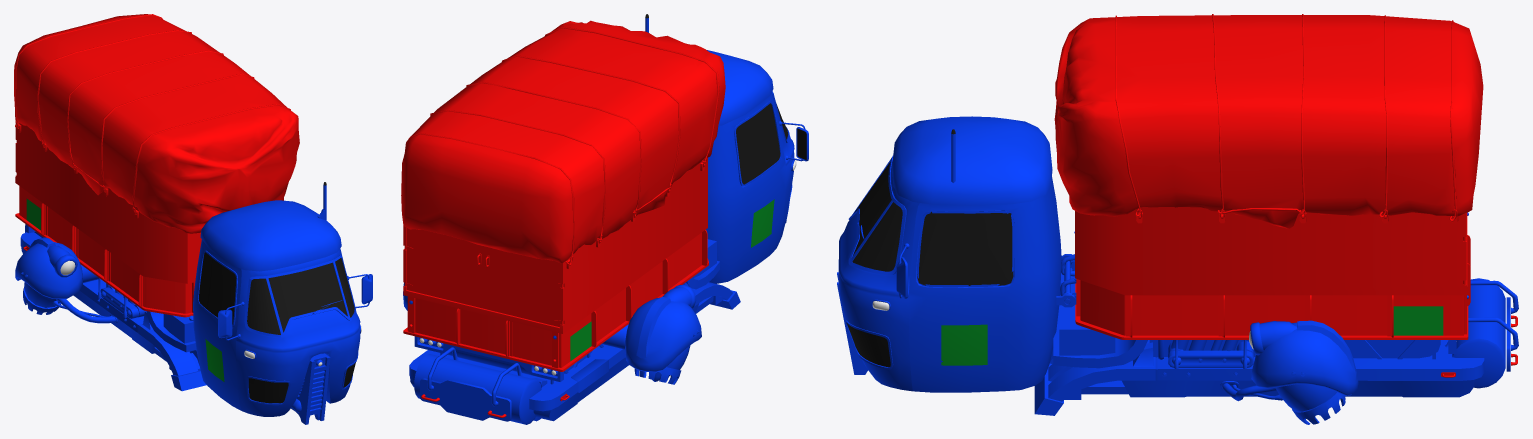
The model's file is Vehicle_HoverTukTuk_A.fbx.
3 views of the same model, side by side, from view 1: azimuth 30°, elevation 25°; view 2: azimuth 150°, elevation 25°; view 3: azimuth 270°, elevation 25° (orthographic). The views are drawn at different scales.
Visible parts, largest first — view 1: Geometry_Vehicle_HoverTukTuk_A_LOD00; view 2: Geometry_Vehicle_HoverTukTuk_A_LOD00; view 3: Geometry_Vehicle_HoverTukTuk_A_LOD00.
Boxes of the visible parts, x1=… form: Geometry_Vehicle_HoverTukTuk_A_LOD00: x1=14, y1=14, x2=372, y2=424; Geometry_Vehicle_HoverTukTuk_A_LOD00: x1=401, y1=14, x2=808, y2=424; Geometry_Vehicle_HoverTukTuk_A_LOD00: x1=837, y1=14, x2=1518, y2=424.
Size of what is drawn, in the model's own units: 392 by 363 by 687.
